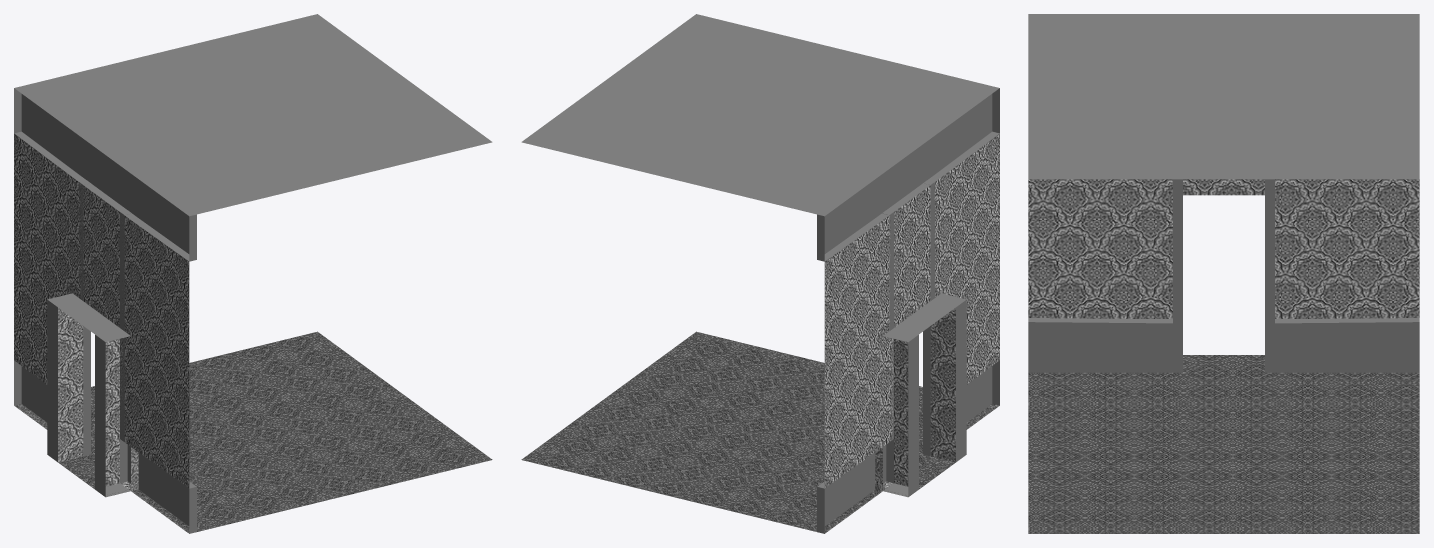
File: Room_Doorway.fbx
3 views of the same model, side by side, from view 1: azimuth 30°, elevation 25°; view 2: azimuth 150°, elevation 25°; view 3: azimuth 270°, elevation 25° (orthographic). The views are drawn at different scales.
Parts seen in each view (by area): view 1: Room_Doorway; view 2: Room_Doorway; view 3: Room_Doorway.
Part boxes in pixels (box(x1,y1,x2,y2)): Room_Doorway: box(14, 14, 492, 533); Room_Doorway: box(521, 14, 999, 533); Room_Doorway: box(1028, 14, 1419, 533).
Size of the model in its own units: 6.5 by 6 by 6.
Materials: 3 (2 with a texture image).
